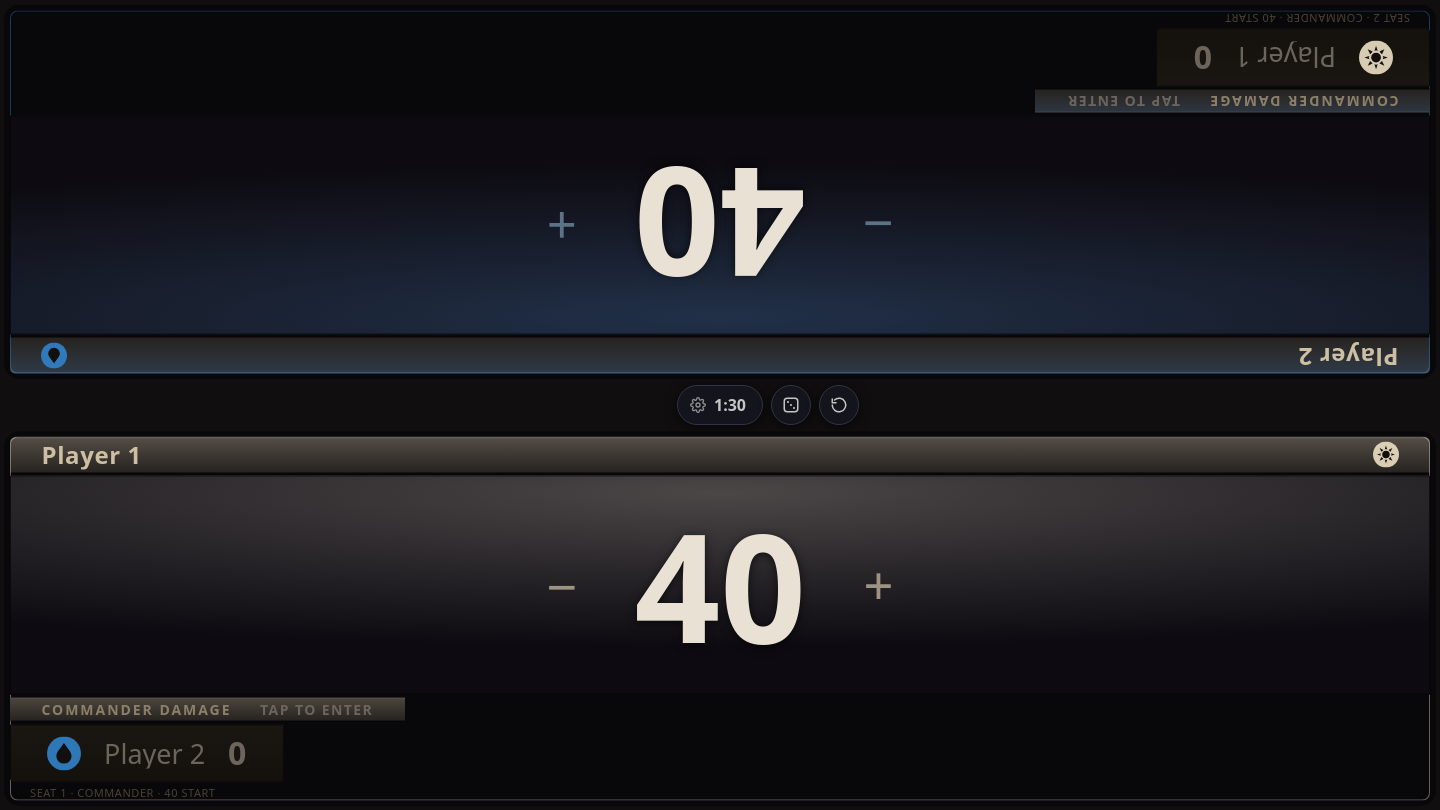
asking first (RESET-1) › starts the game over when the panel is answered (RESET-2)
Press the mouse on the button named "lose life" at (362, 618), box 4,431 -> 720,806
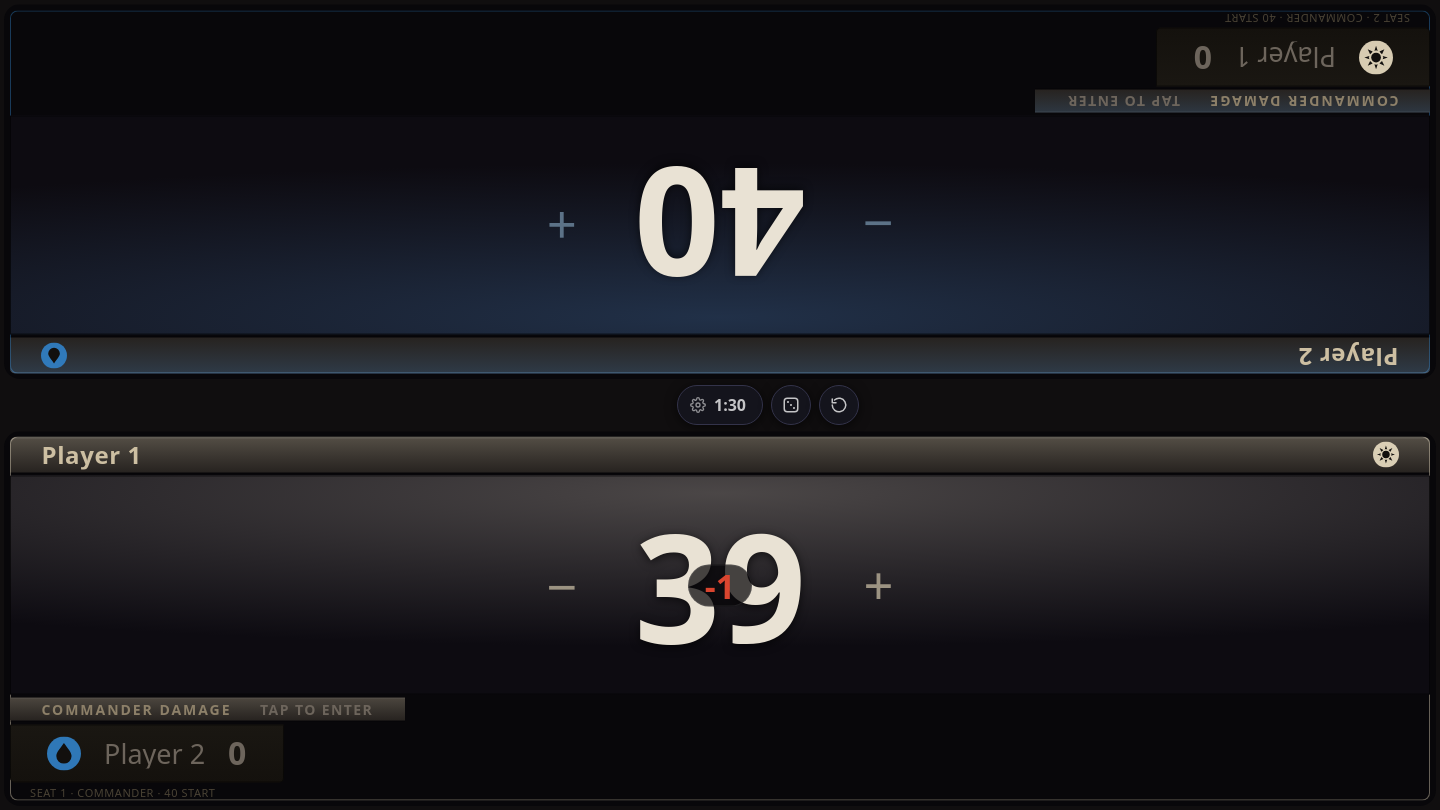
Click the button named "Reset the game" at (839, 405), box 819,385 -> 859,425
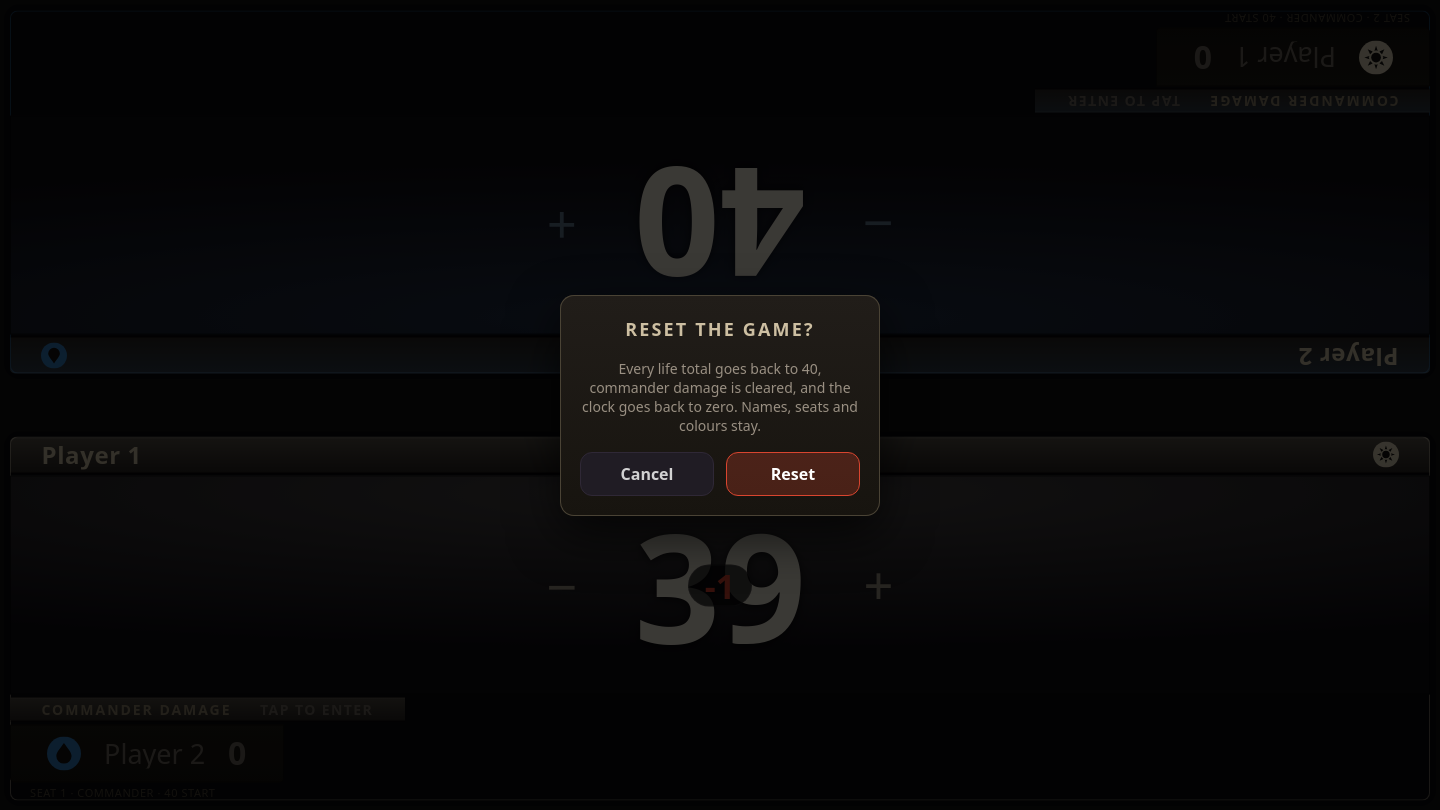
Click the button "Reset" at (793, 474), box 726,452 -> 860,496
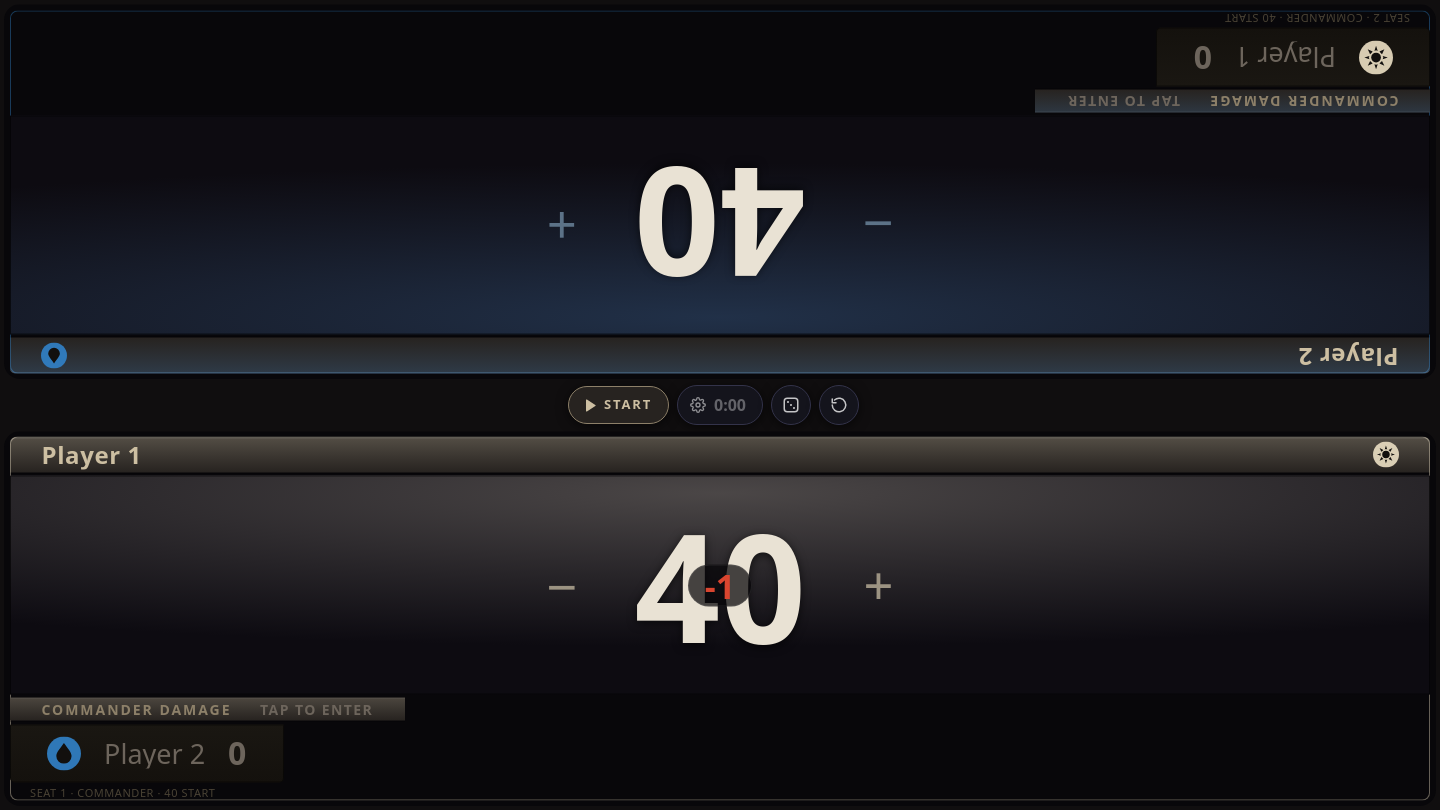
Expected: the heading "Reset the game?" is gone
